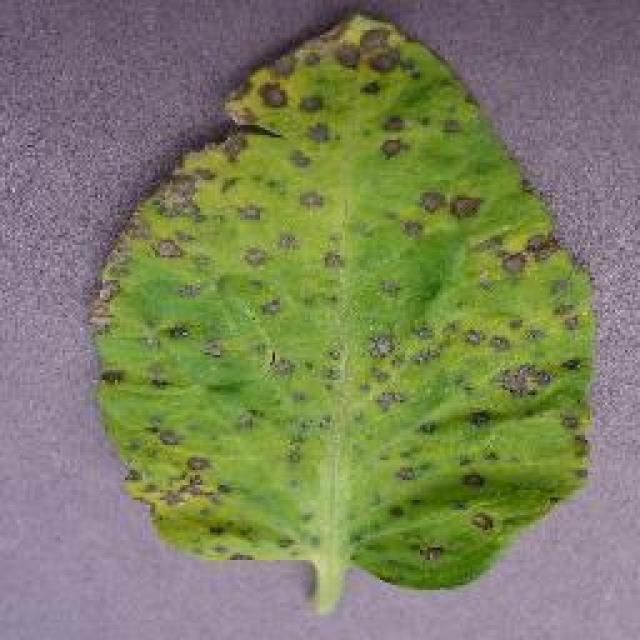Tomato target spot leaf: (87, 10, 595, 595)
